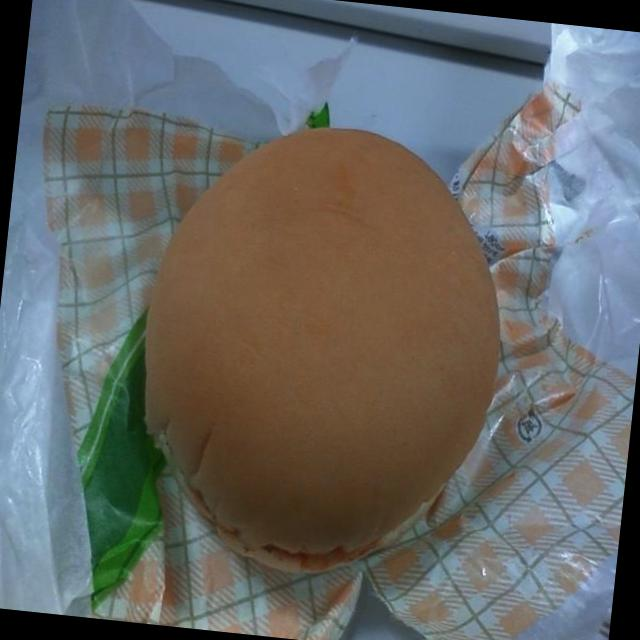Hamburger: (104, 82, 526, 579)
